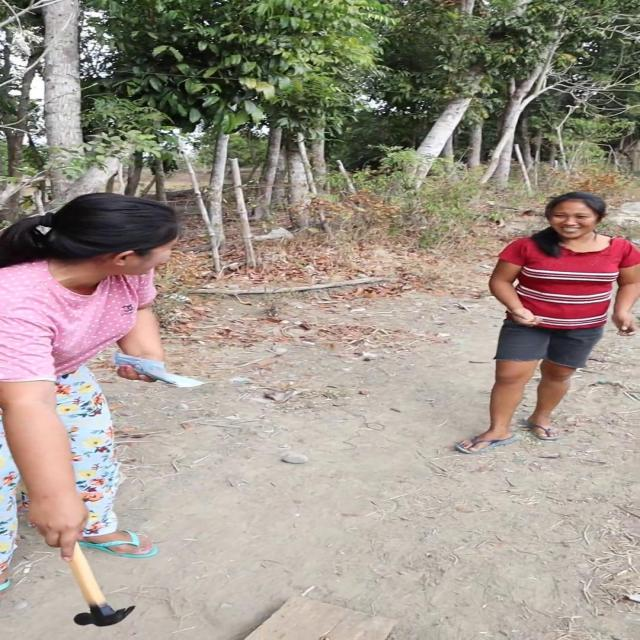hammer: (59, 536, 142, 632)
